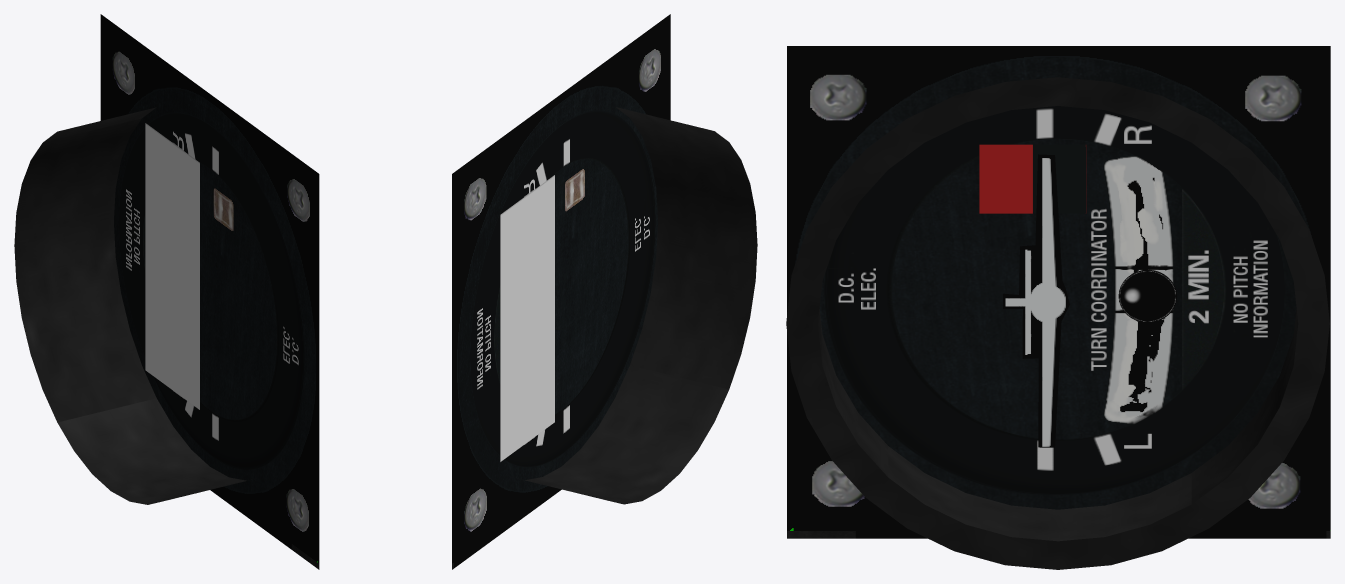
3 renders of one model, left to right at view 1: azimuth 30°, elevation 25°; view 2: azimuth 150°, elevation 25°; view 3: azimuth 270°, elevation 25°, orthographic. The views are drawn at different scales.
Parts seen in each view (by area): view 1: Face, Case, Background; view 2: Face, Case, Background; view 3: Face, Case, Airplane, Flag, Ball.
Part boxes in pixels (x1,y1,x2,y2): Face: (100, 14, 319, 569); Case: (14, 107, 251, 504); Background: (145, 123, 199, 409); Face: (452, 14, 670, 569); Case: (525, 107, 757, 504); Background: (500, 175, 554, 461); Face: (787, 46, 1330, 538); Case: (786, 77, 1329, 569); Airplane: (1003, 154, 1069, 447); Flag: (979, 144, 1086, 213); Ball: (1118, 269, 1176, 322).
Size of the model in its own units: 0.032 by 0.08 by 0.0801.
1 material, 1 textured.
